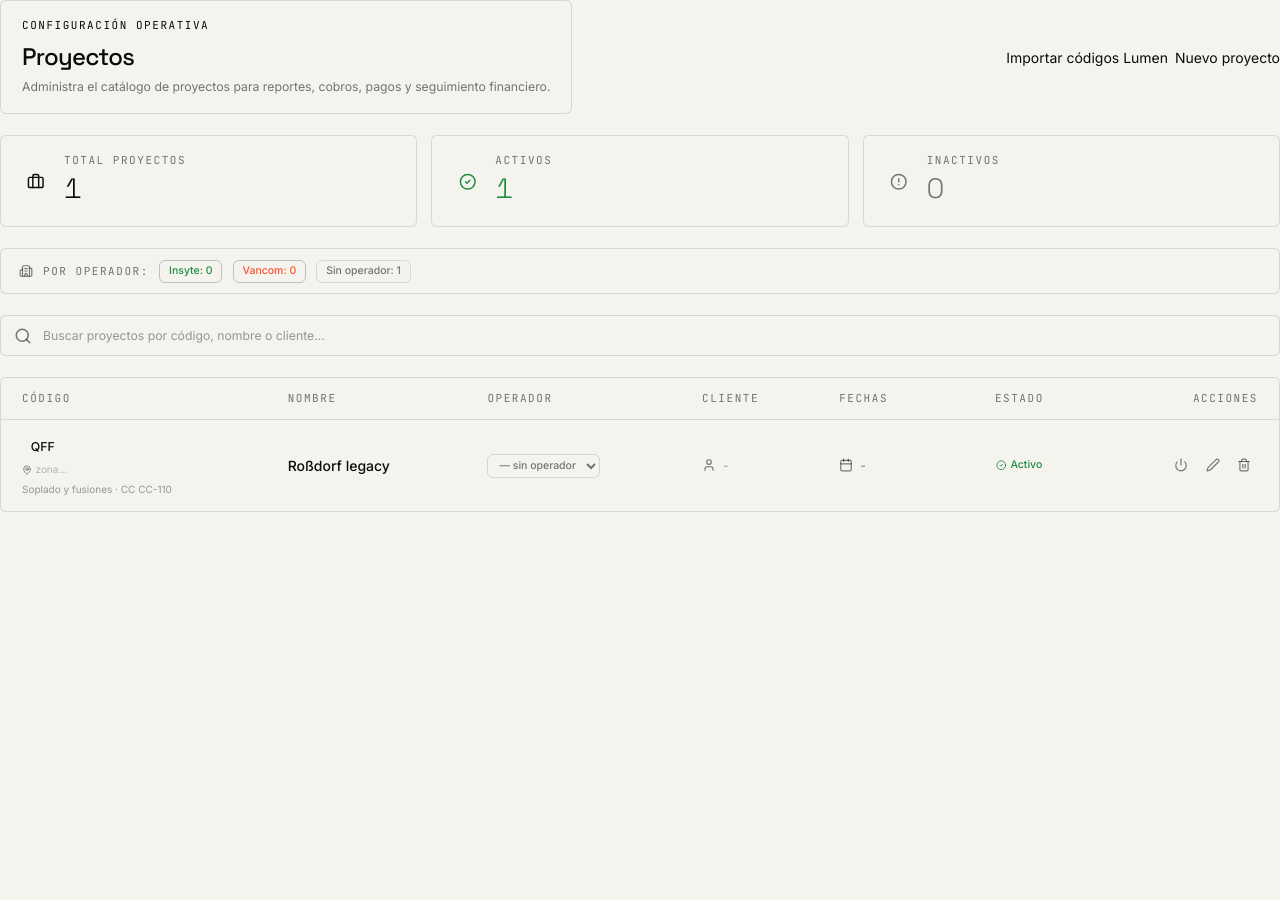
Test case: Projects — legacy code suggestion (T7) › shows a "Código heredado" badge and a mapped v2 suggestion for a legacy code
Click the button titled "Editar" at [1212, 465], box [1198,451,1226,479]
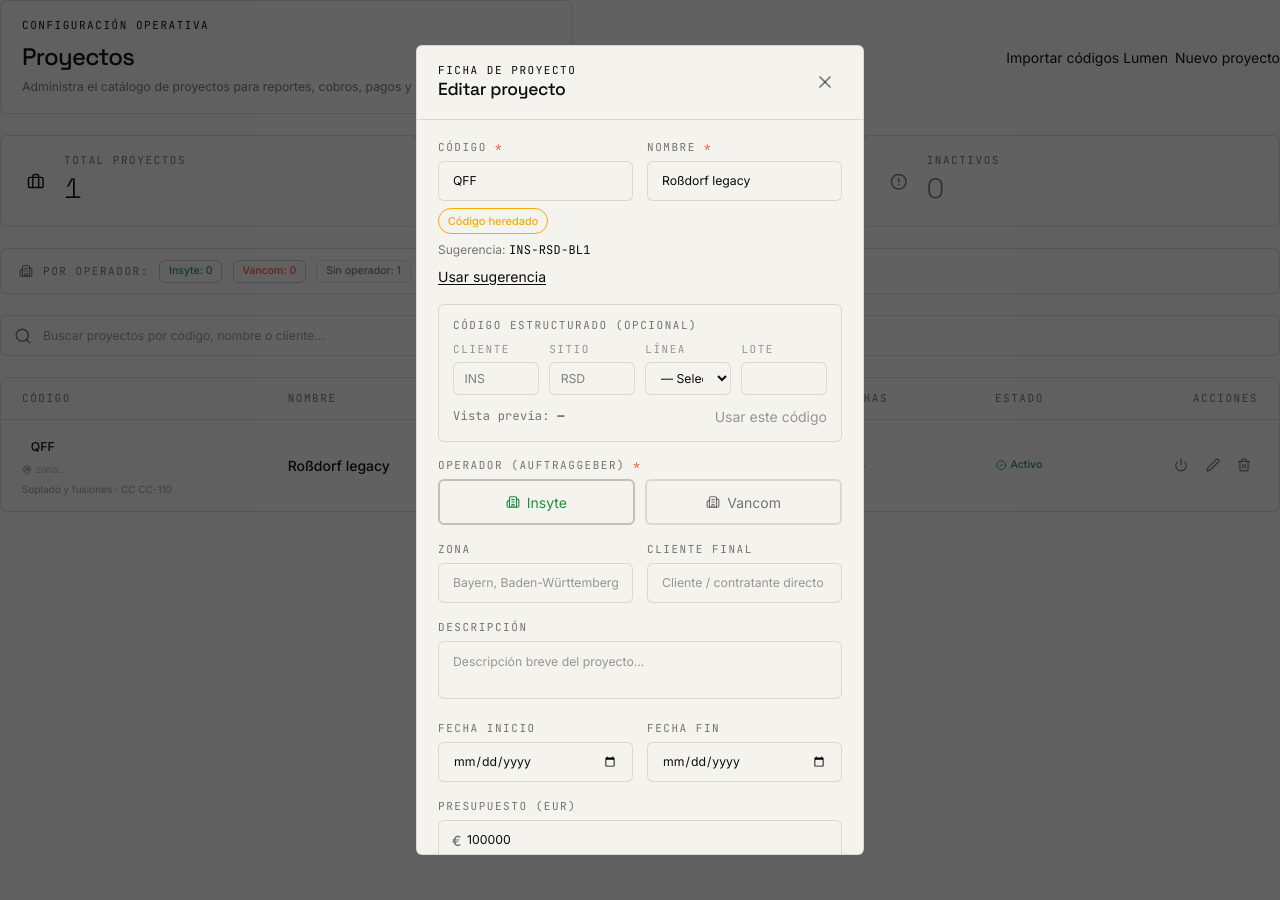
Now the text "Código heredado" is shown, box [438,208,548,234]
Now the text "INS-RSD-BL1" is shown, box [509,242,591,258]
